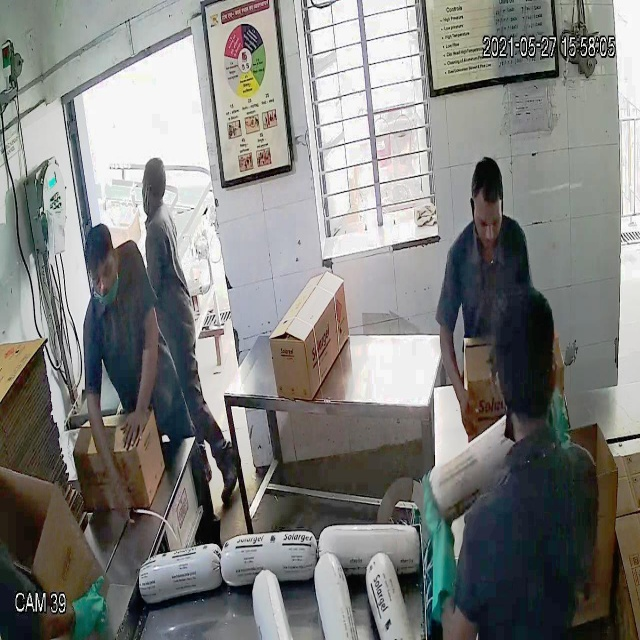Sin_gafas: (470, 207, 511, 237), (86, 260, 123, 288)
